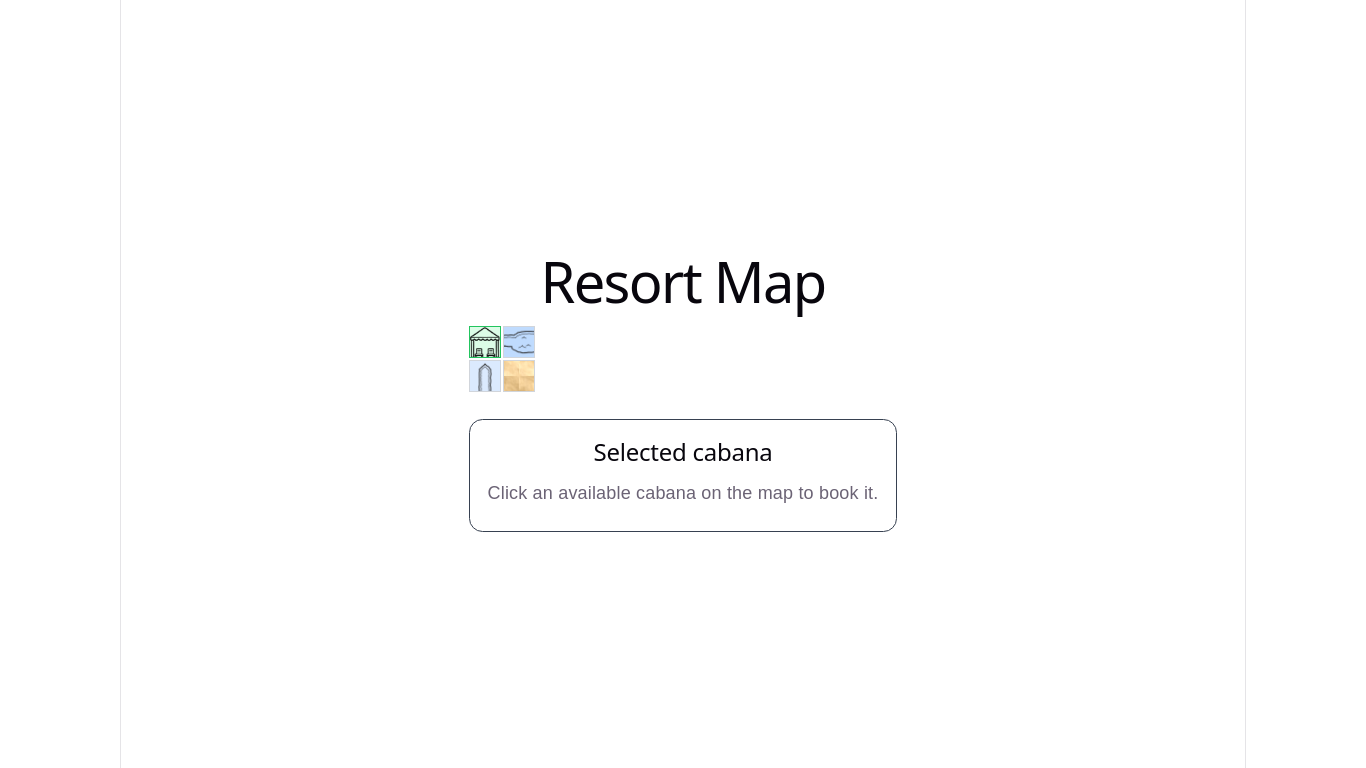
Scenario: App › shows an error message when booking fails
Click the button named "cabana" at (484, 342), box [468,326,500,358]
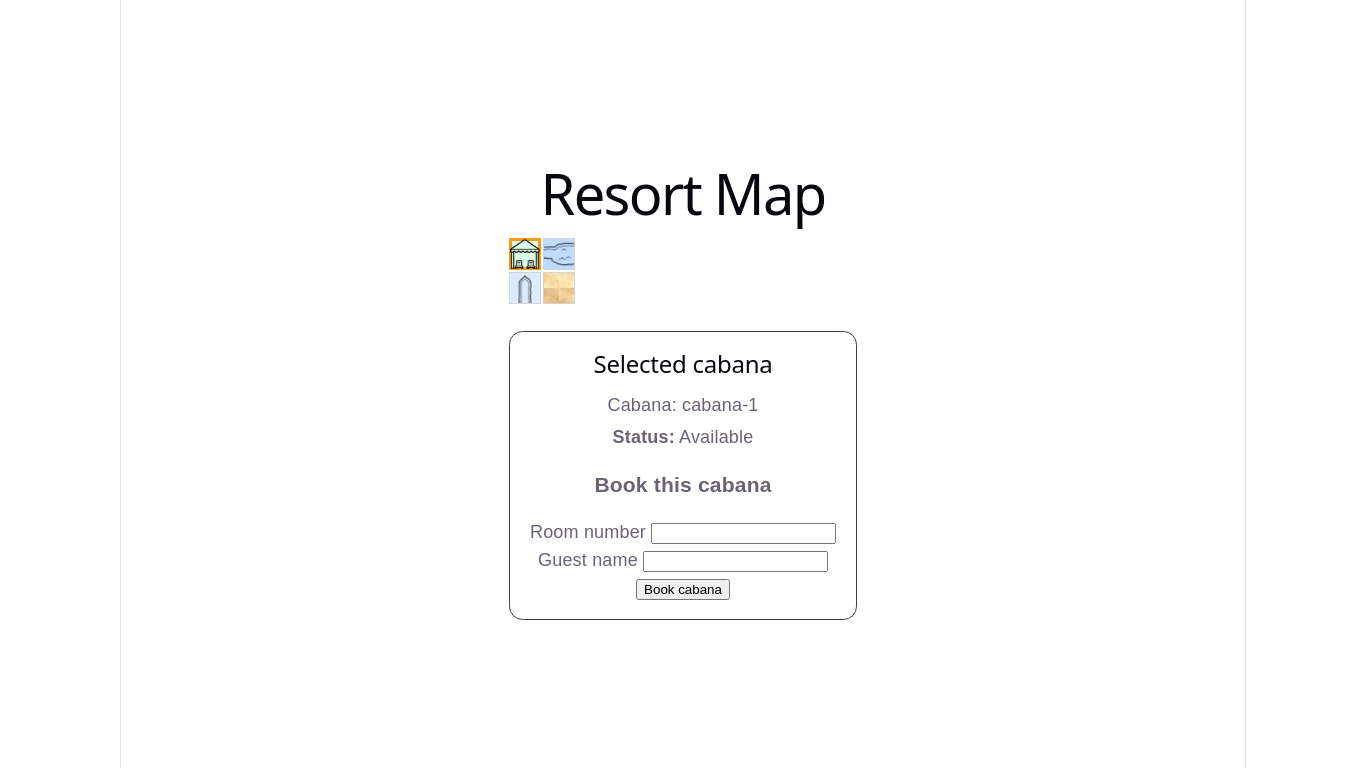
Type "999" into the field labelled "Room number" at (744, 533), box [651,523,836,544]
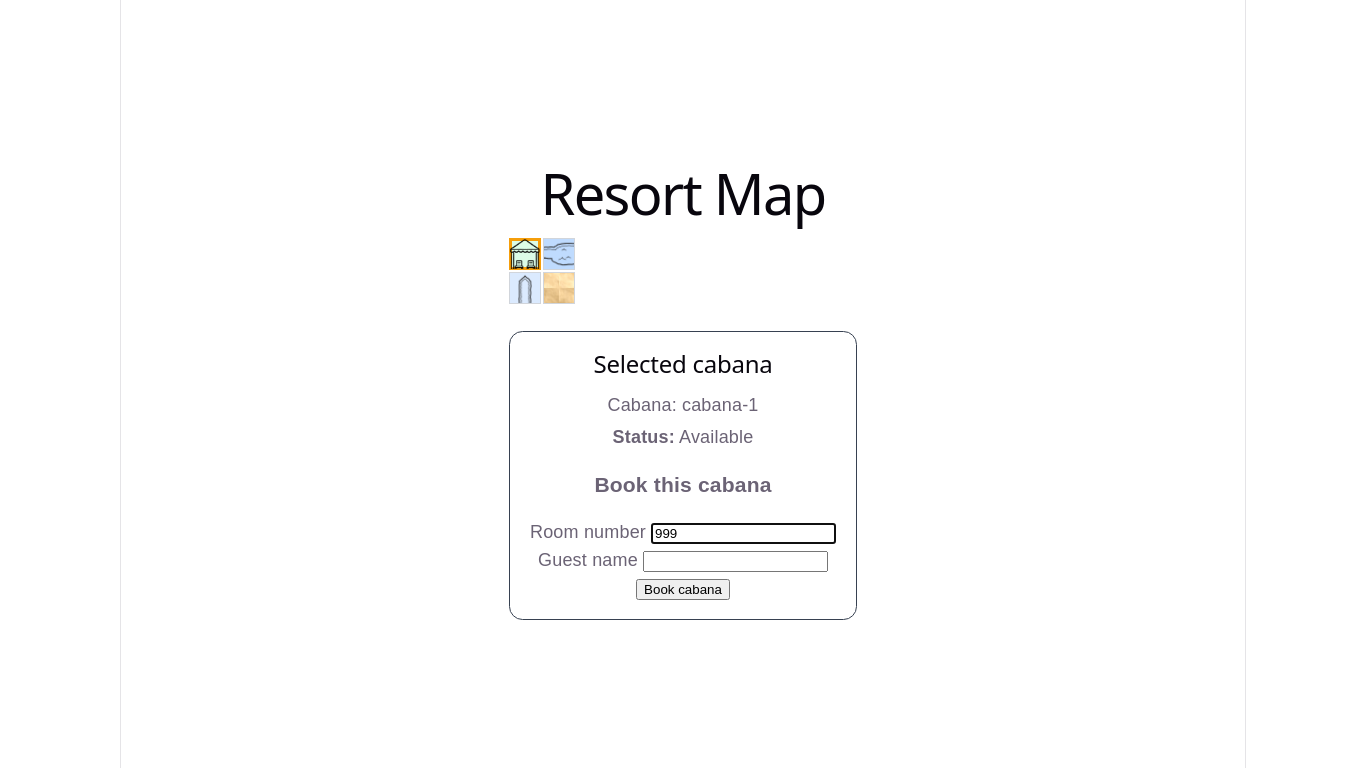
Type "Wrong Person" into the field labelled "Guest name" at (735, 561), box [643,551,828,572]
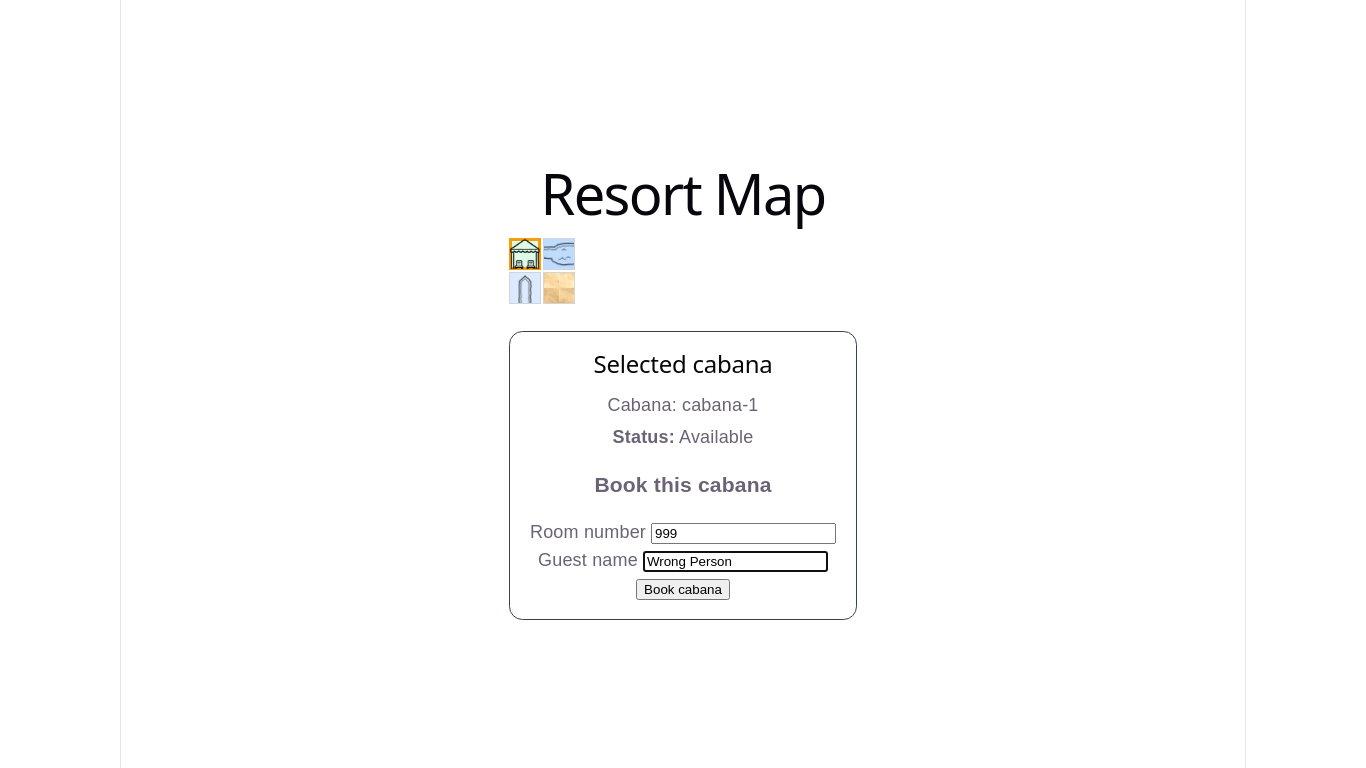
Click the button "Book cabana" at (683, 589), box [636,579,730,600]
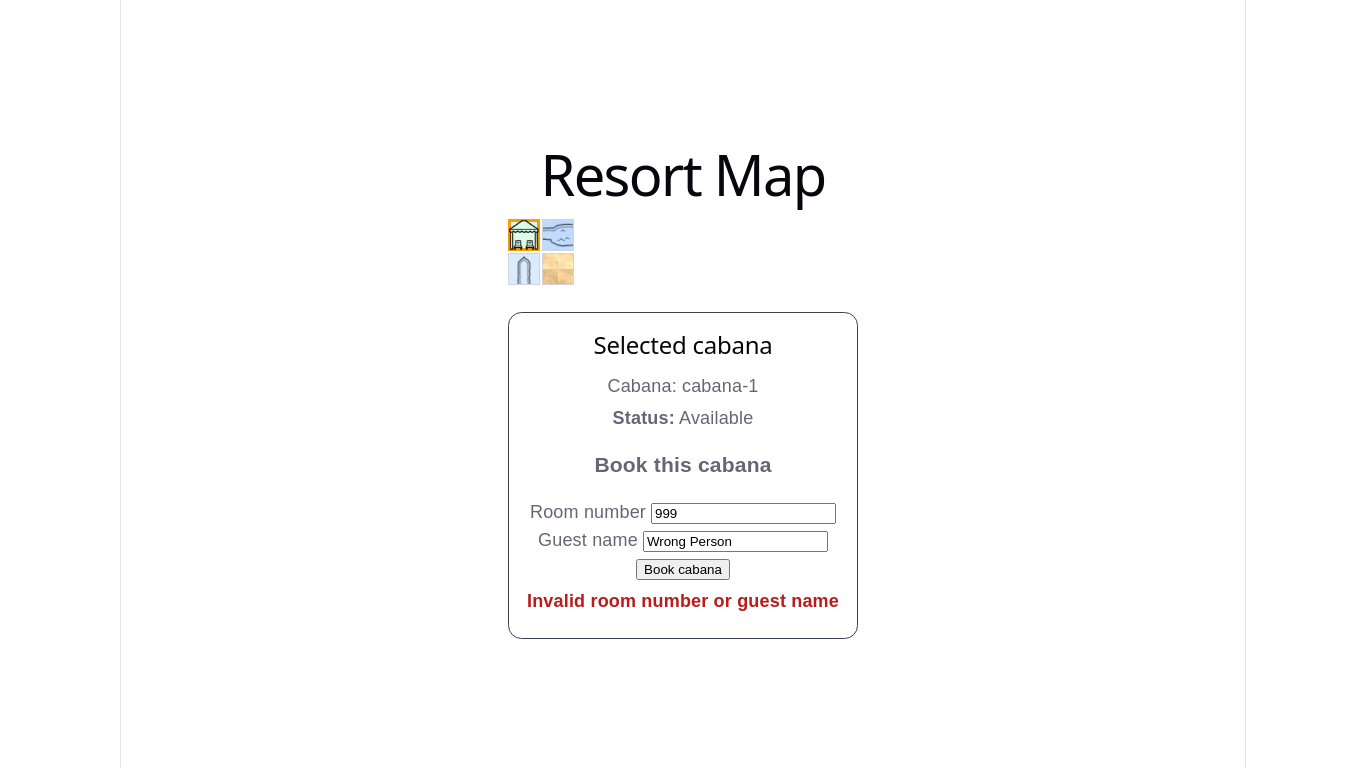
Expected: the text "Invalid room number or guest name" is shown, [527,588,839,614]
